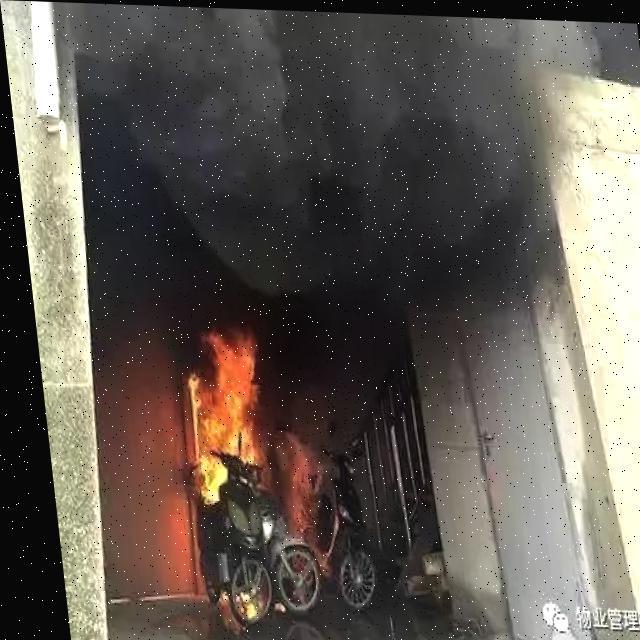Fire: (168, 314, 272, 608)
